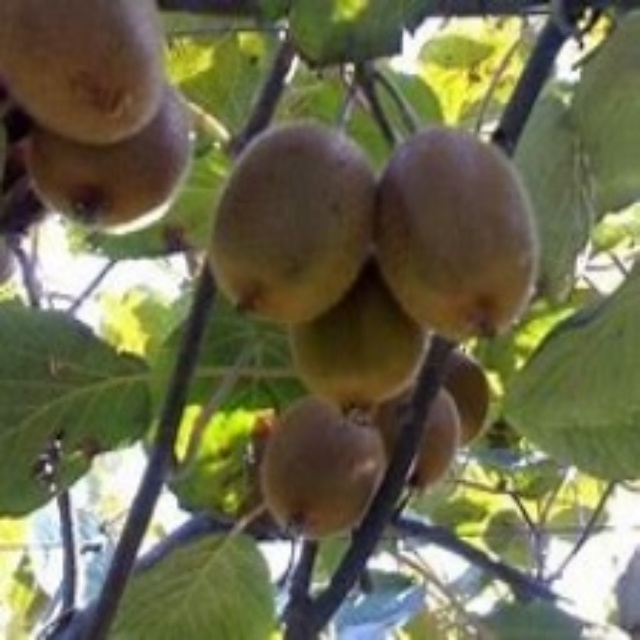kiwi: (10, 2, 189, 247), (371, 123, 542, 350), (254, 379, 467, 538), (218, 119, 364, 326), (280, 287, 449, 423)
